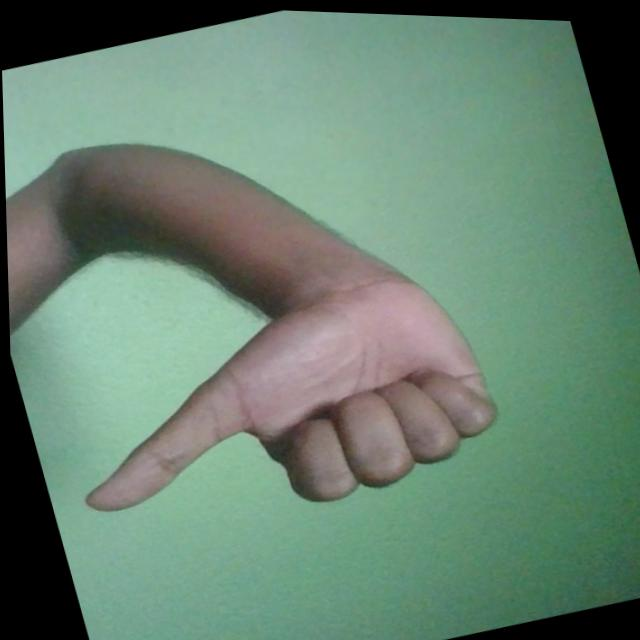Dislike: (37, 241, 511, 560)
